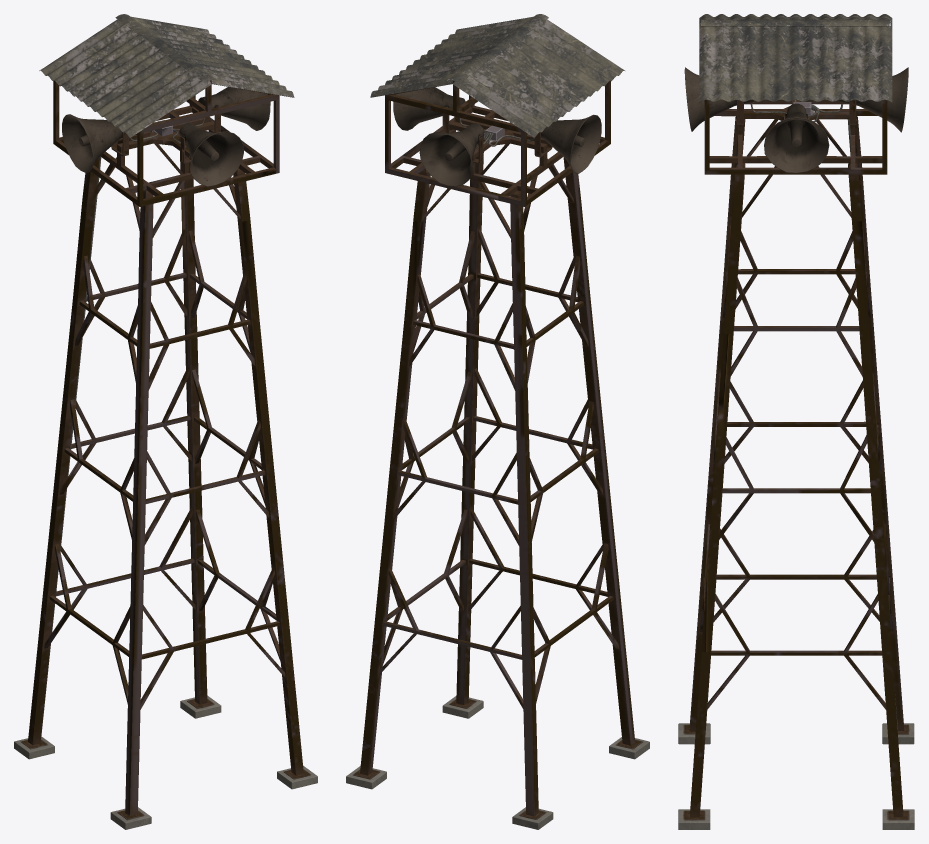
The model's file is loudspeaker_tower.glb.
The picture shows the model from 3 angles, left to right: view 1: azimuth 30°, elevation 25°; view 2: azimuth 150°, elevation 25°; view 3: azimuth 270°, elevation 25°; orthographic projection. The views are drawn at different scales.
Visible parts, largest first — view 1: Tower; view 2: Tower; view 3: Tower.
Boxes of the visible parts, box(x1,y1,x2,y2) form: Tower: box(14, 14, 317, 829); Tower: box(346, 14, 649, 829); Tower: box(678, 14, 914, 829).
Size of the model in its own units: 3.52 by 12.53 by 3.53.
1 material, 1 textured.
